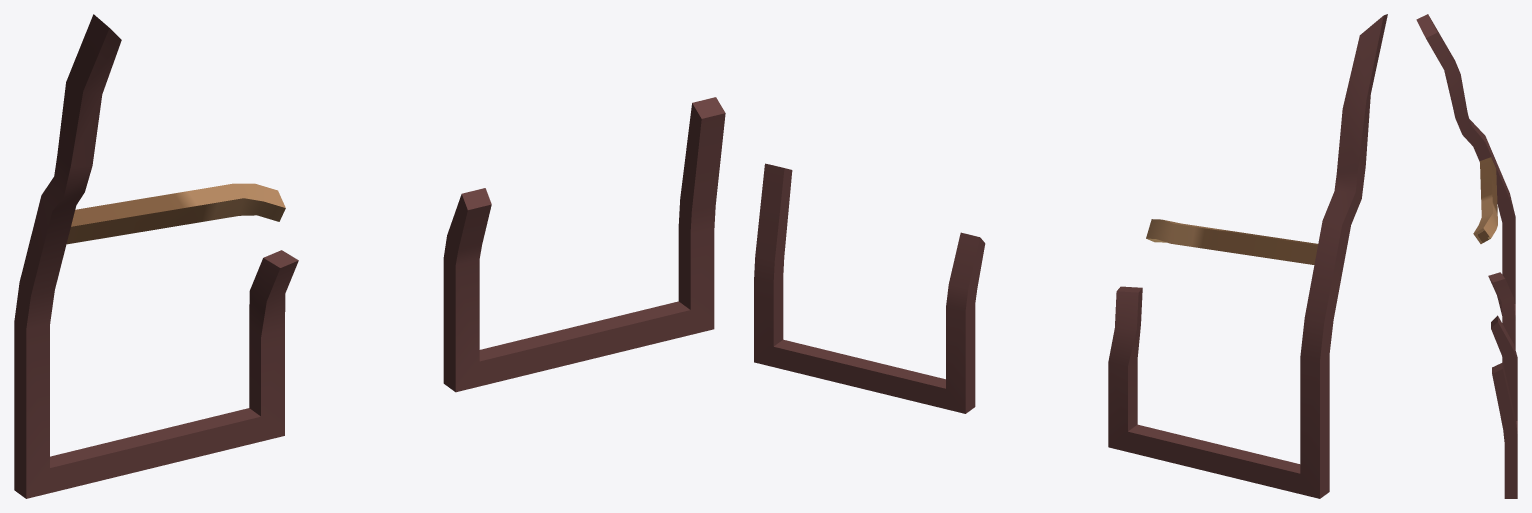
The model's file is DBK_WinDouble_Metal_Tile.fbx.
3 renders of one model, left to right at view 1: azimuth 30°, elevation 25°; view 2: azimuth 150°, elevation 25°; view 3: azimuth 270°, elevation 25°, orthographic. The views are drawn at different scales.
Visible parts, largest first — view 1: DBK_WinDouble_Metal_Tile; view 2: DBK_WinDouble_Metal_Tile; view 3: DBK_WinDouble_Metal_Tile.
Part boxes in pixels (x1,y1,x2,y2): DBK_WinDouble_Metal_Tile: [14, 14, 725, 498]; DBK_WinDouble_Metal_Tile: [754, 14, 1387, 498]; DBK_WinDouble_Metal_Tile: [1416, 14, 1517, 498].
Bounding box in the file's own units: 161 × 118 × 36.57.
